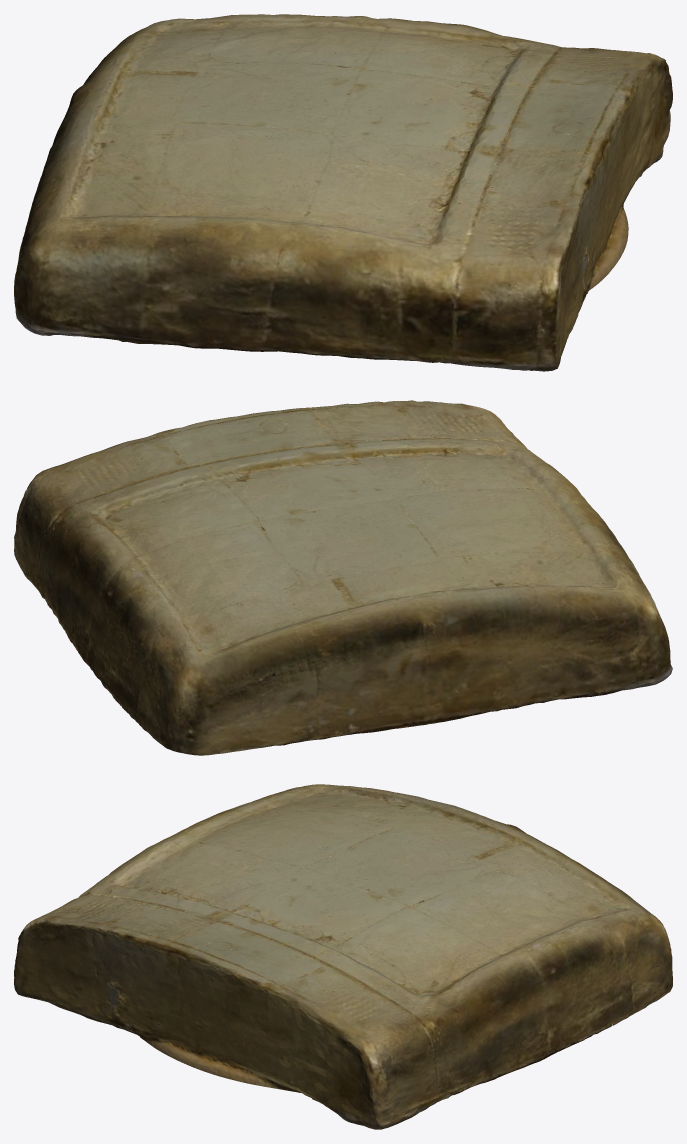
Rendered from Gold2-2048.glb.
3 renders of one model, top to bottom at view 1: azimuth 30°, elevation 25°; view 2: azimuth 150°, elevation 25°; view 3: azimuth 270°, elevation 25°, orthographic. The views are drawn at different scales.
Bounding box in the file's own units: 0.2894 × 0.0522 × 0.2859.
1 material, 1 textured.
